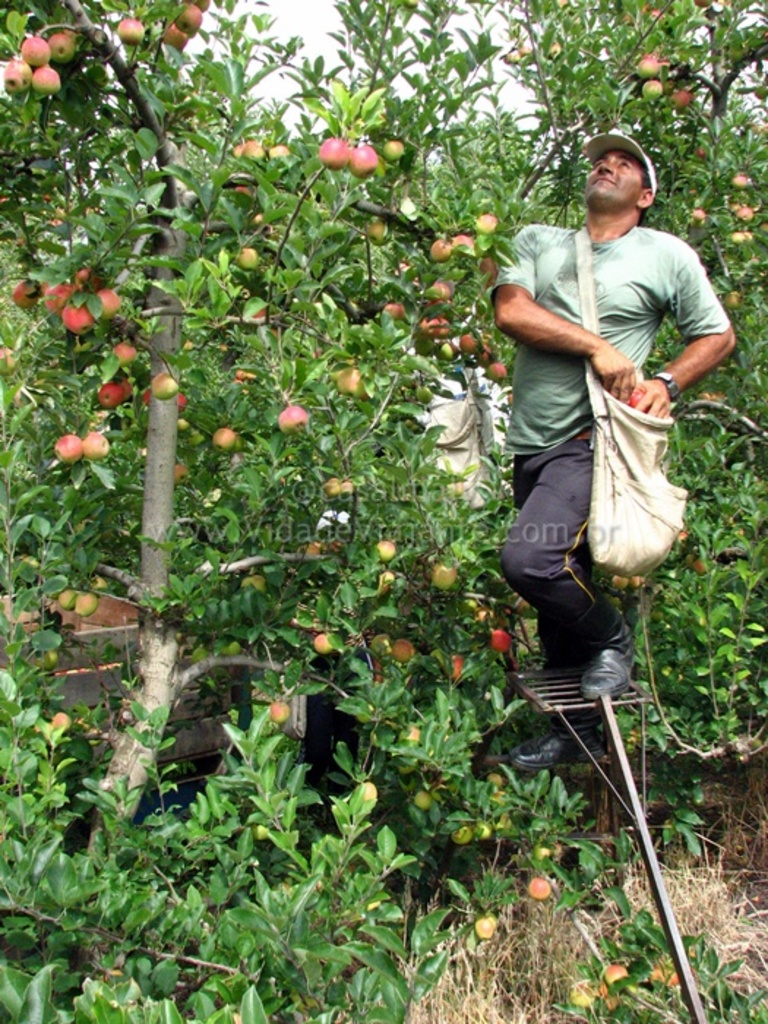Footwear: (579, 611, 638, 702), (509, 721, 613, 768)
